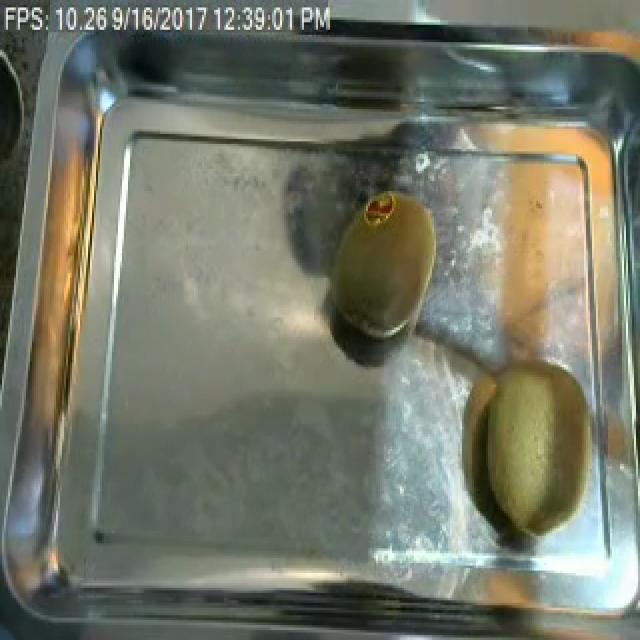Fruit: (460, 352, 614, 546), (320, 179, 448, 352)
